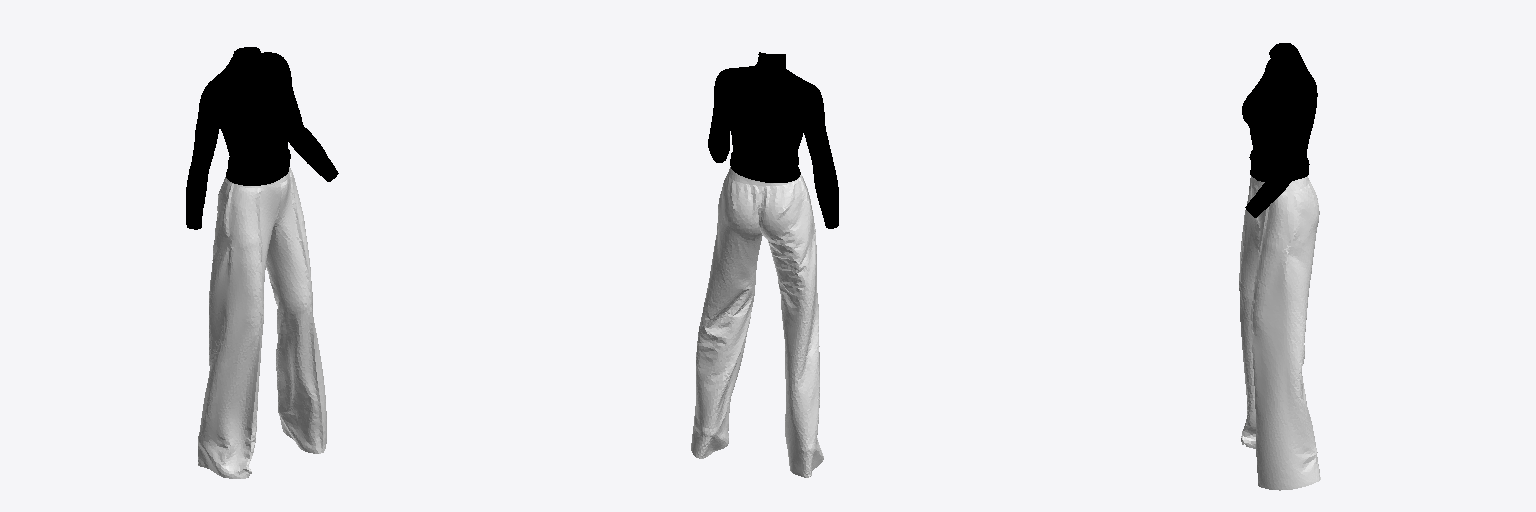
The model's file is DA_HighNeck+WidePants_0000112.obj.
3 renders of one model, left to right at view 1: azimuth 30°, elevation 25°; view 2: azimuth 150°, elevation 25°; view 3: azimuth 270°, elevation 25°, orthographic.
Size of the model in its own units: 0.5823 by 1.64 by 0.2951.